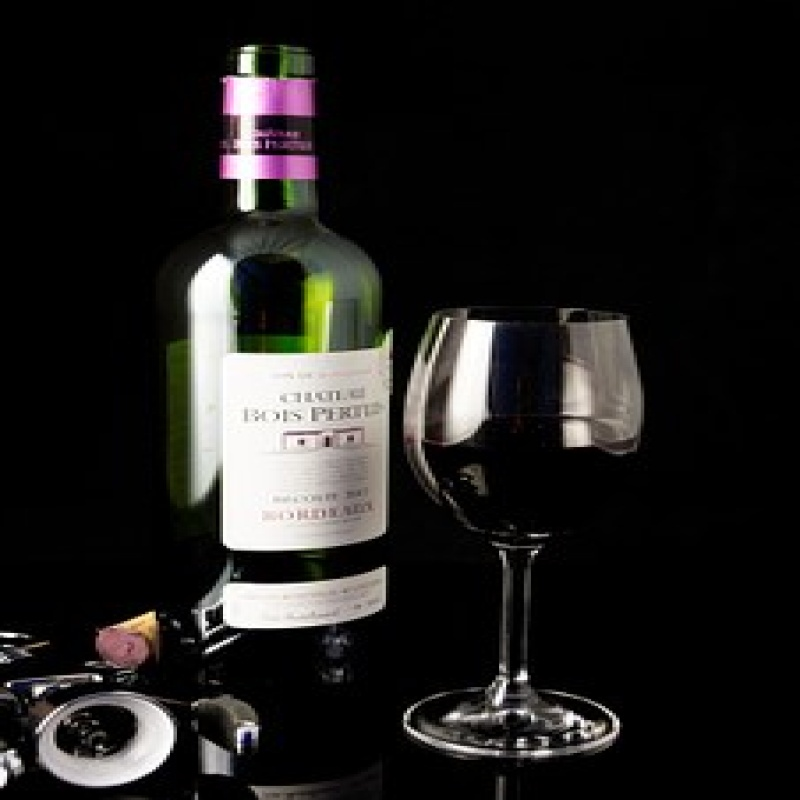wine: (155, 49, 395, 669)
